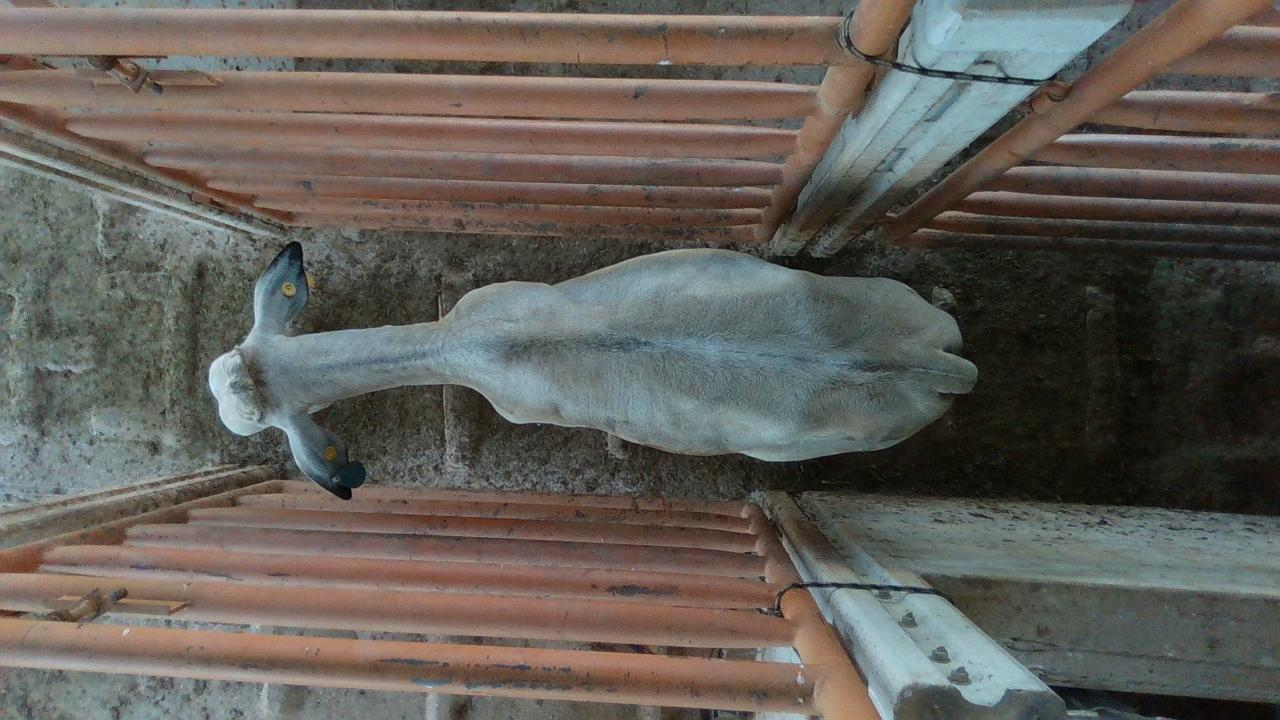cattle: (206, 238, 979, 499)
